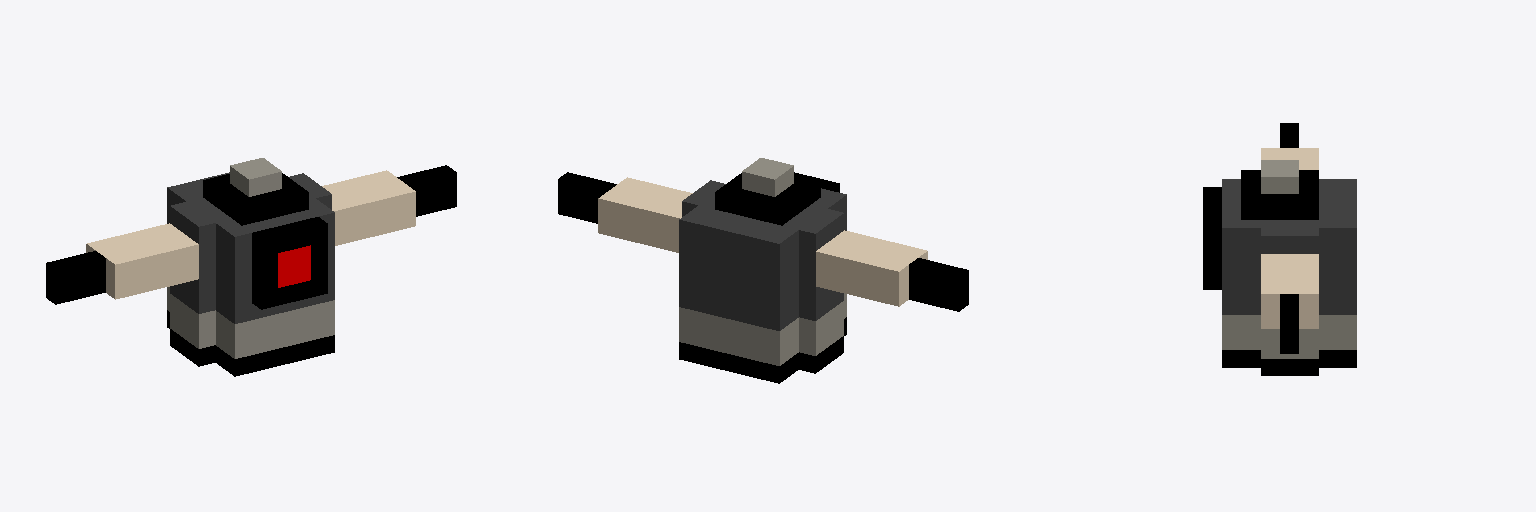
3 views of the same model, side by side, from view 1: azimuth 30°, elevation 25°; view 2: azimuth 150°, elevation 25°; view 3: azimuth 270°, elevation 25° (orthographic).
Visible parts, largest first — view 1: object 1; view 2: object 1; view 3: object 1.
Part boxes in pixels (bbox=[...]): object 1: bbox=[46, 158, 456, 376]; object 1: bbox=[558, 158, 968, 383]; object 1: bbox=[1203, 123, 1356, 375].
Bounding box in the file's own units: 2.4 × 1 × 0.8.
1 materials, 1 textured.